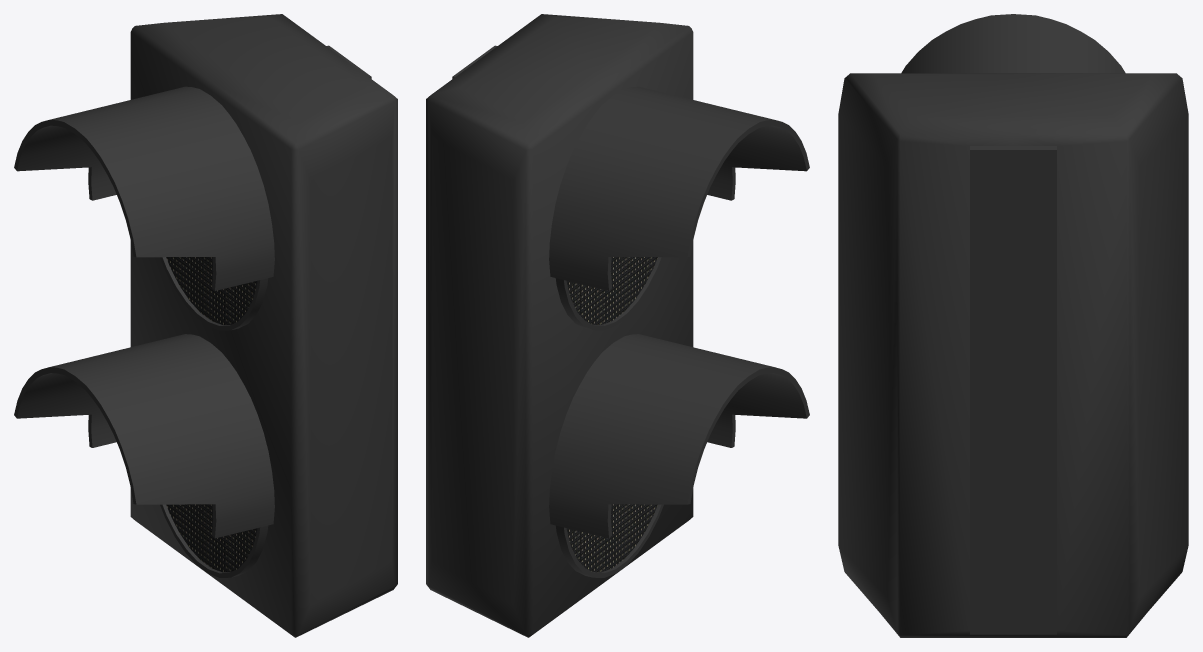
The model's file is 单车指示灯.fbx.
The picture shows the model from 3 angles, left to right: view 1: azimuth 30°, elevation 25°; view 2: azimuth 150°, elevation 25°; view 3: azimuth 270°, elevation 25°; orthographic projection.
Parts seen in each view (by area): view 1: 单车指示灯; view 2: 单车指示灯; view 3: 单车指示灯.
Boxes of the visible parts, x1,y1,x2,y2 form: 单车指示灯: (14, 14, 397, 637); 单车指示灯: (426, 14, 809, 637); 单车指示灯: (838, 14, 1188, 637).
Bounding box in the file's own units: 0.6 × 1.06 × 0.65.
2 materials, 1 textured.
